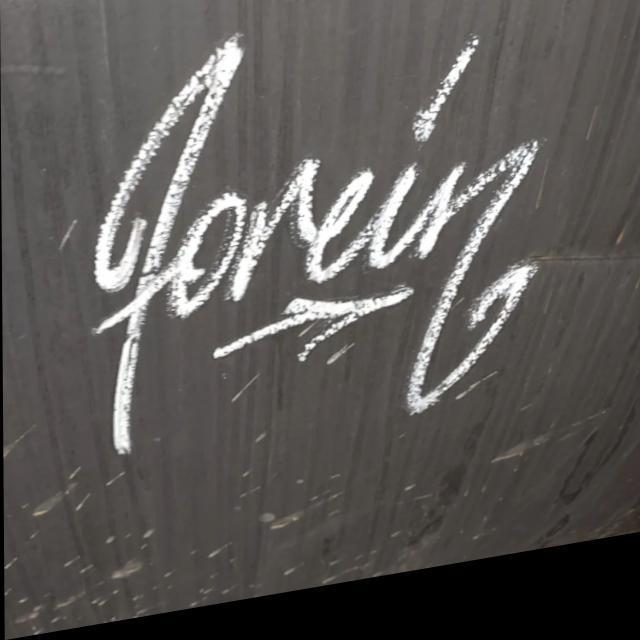-: (50, 0, 595, 489)
